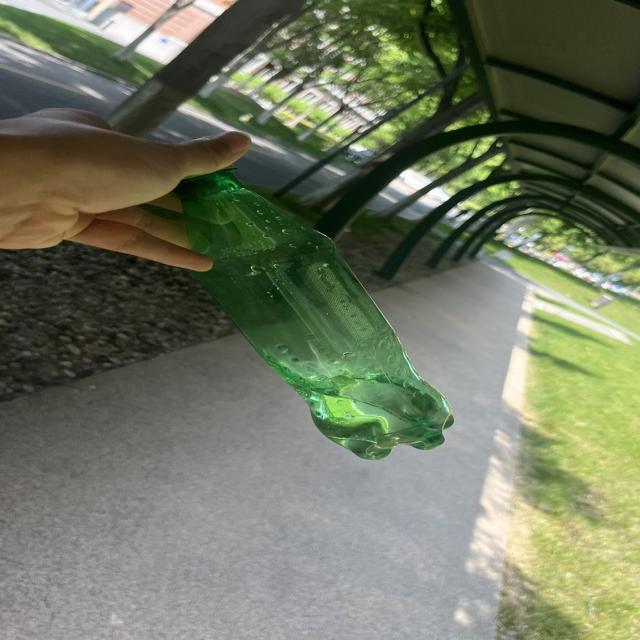low: (177, 167, 452, 459)
